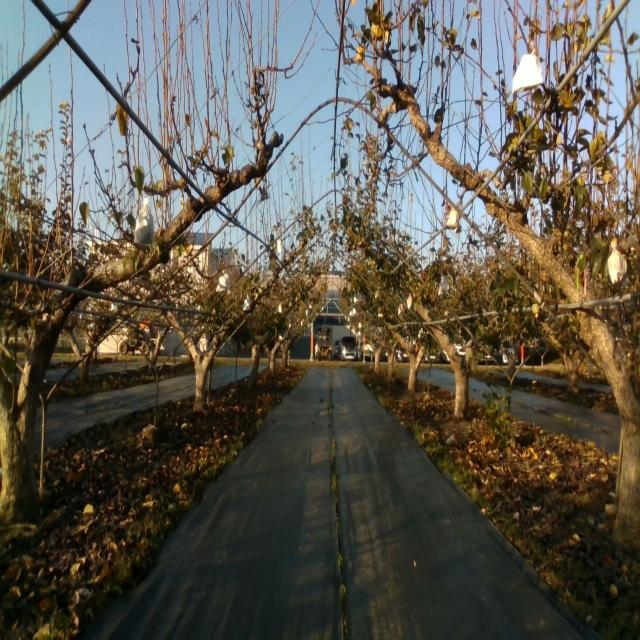pearbags: (512, 48, 544, 93), (133, 197, 155, 244), (607, 248, 627, 286), (216, 270, 230, 295), (446, 208, 459, 233), (438, 276, 449, 296)
